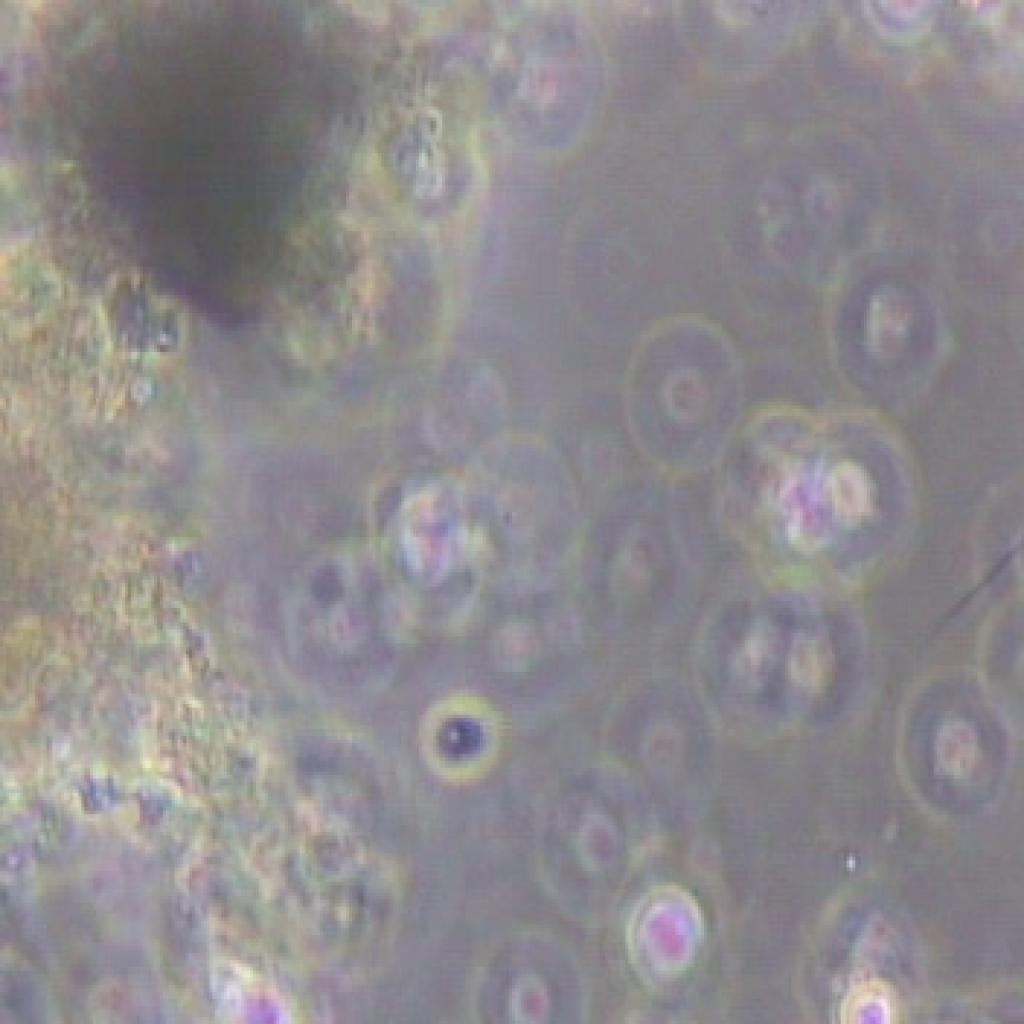Flagellates: (420, 699, 493, 777)
